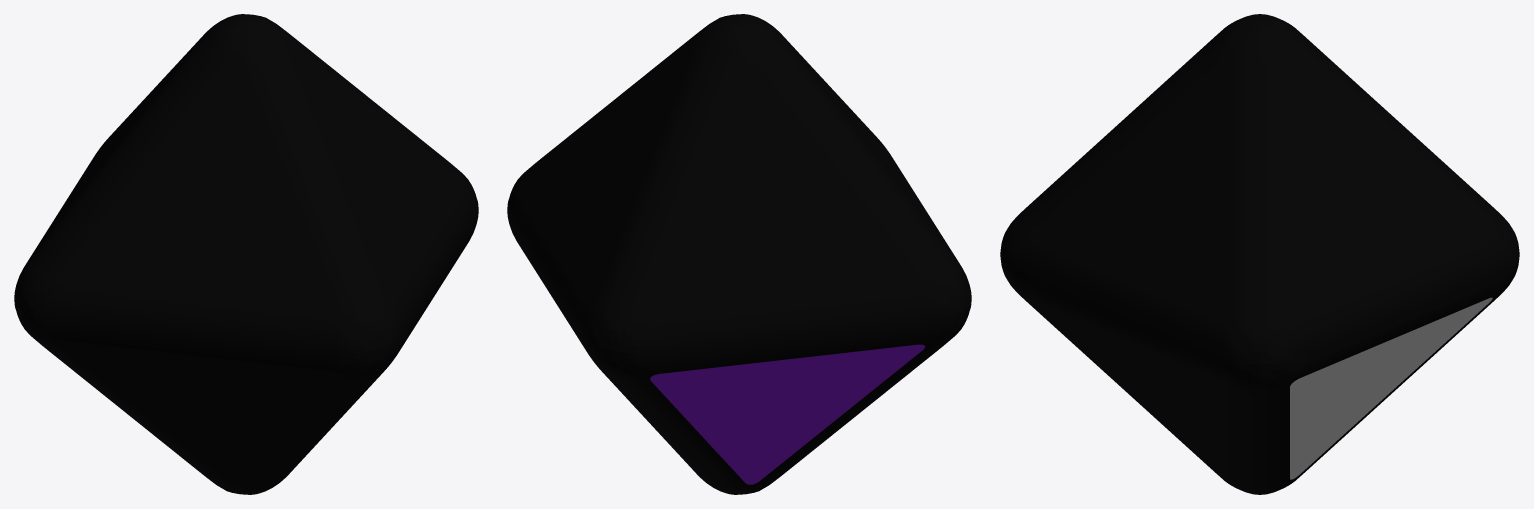
3 views of the same model, side by side, from view 1: azimuth 30°, elevation 25°; view 2: azimuth 150°, elevation 25°; view 3: azimuth 270°, elevation 25° (orthographic).
Visible parts, largest first — view 1: fd; view 2: fd; view 3: fd.
Boxes of the visible parts, box(x1,y1,x2,y2) form: fd: box(14, 14, 478, 494); fd: box(507, 14, 971, 494); fd: box(1000, 14, 1519, 494).
Bounding box in the file's own units: 174 × 174 × 174.
